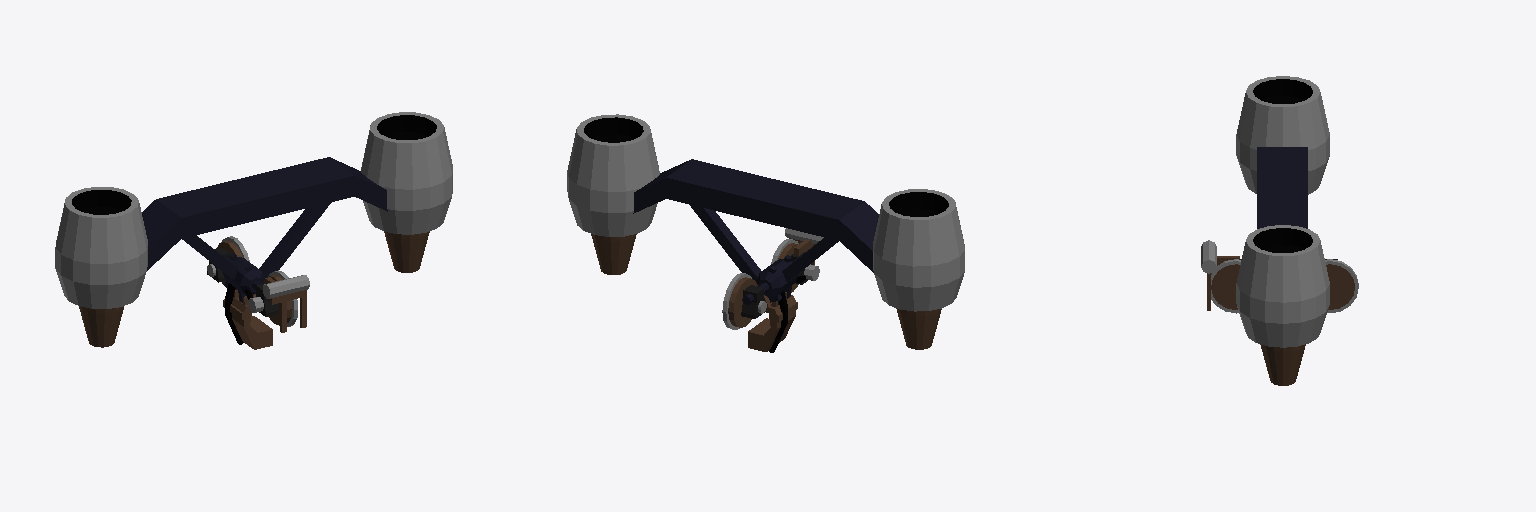
File: bogie_air.obj
The picture shows the model from 3 angles: view 1: azimuth 30°, elevation 25°; view 2: azimuth 150°, elevation 25°; view 3: azimuth 270°, elevation 25°; orthographic projection.
Parts seen in each view (by area): view 1: 柱体, 立方体.001, 立方体, Support, Wheel, Motor, FwdSupport, SensorB, Gearbox; view 2: 柱体, 立方体.001, 立方体, Wheel, Support, Motor, Gearbox; view 3: 柱体, 立方体.001, Wheel.
Part boxes in pixels (x1,y1,x2,y2): 柱体: (55,112,452,347); 立方体.001: (142,157,387,270); 立方体: (182,202,331,279); Support: (223,290,272,349); Wheel: (207,236,297,326); Motor: (214,249,269,302); FwdSupport: (265,277,306,332); SensorB: (263,275,309,298); Gearbox: (207,248,278,316); 柱体: (567,114,964,349); 立方体.001: (633,159,878,272); 立方体: (690,205,838,281); Wheel: (722,239,798,329); Support: (748,292,797,351); Motor: (742,255,798,304); Gearbox: (741,252,811,318); 柱体: (1236,76,1329,385); 立方体.001: (1257,147,1307,228); Wheel: (1211,259,1358,313).
Bounding box in the file's own units: 9.54 × 4.24 × 3.38.